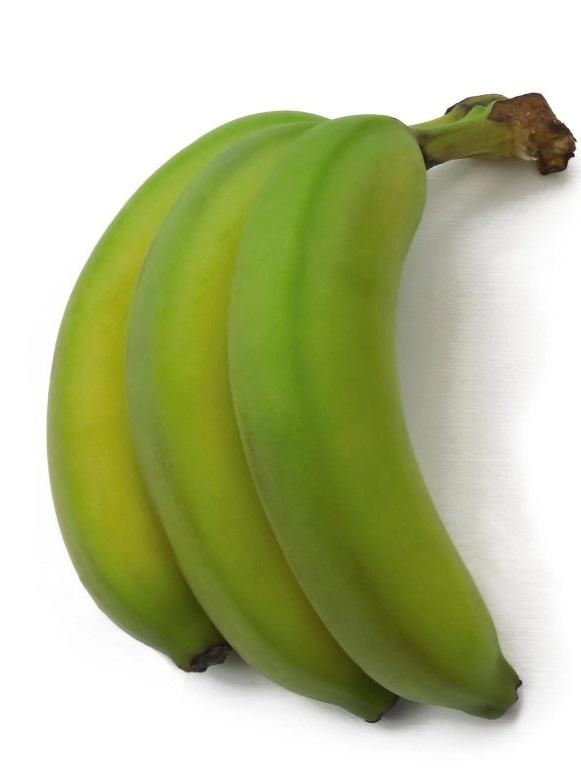Banana Unripe: (28, 20, 581, 748)
